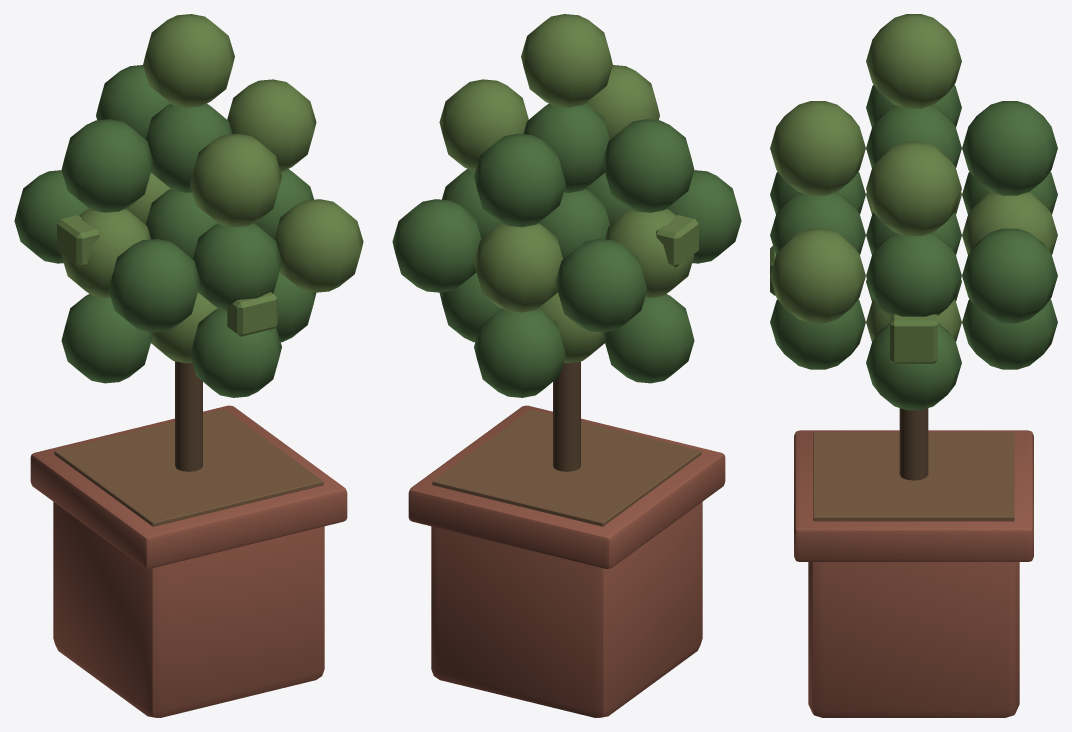
File: potted-plant.glb
3 views of the same model, side by side, from view 1: azimuth 30°, elevation 25°; view 2: azimuth 150°, elevation 25°; view 3: azimuth 270°, elevation 25° (orthographic).
Parts seen in each view (by area): view 1: potted-plant; view 2: potted-plant; view 3: potted-plant.
Boxes of the visible parts, x1=… form: potted-plant: x1=14, y1=14, x2=363, y2=717; potted-plant: x1=392, y1=14, x2=741, y2=717; potted-plant: x1=770, y1=14, x2=1057, y2=717.
Size of the model in its own units: 0.6 by 1.52 by 0.6.
